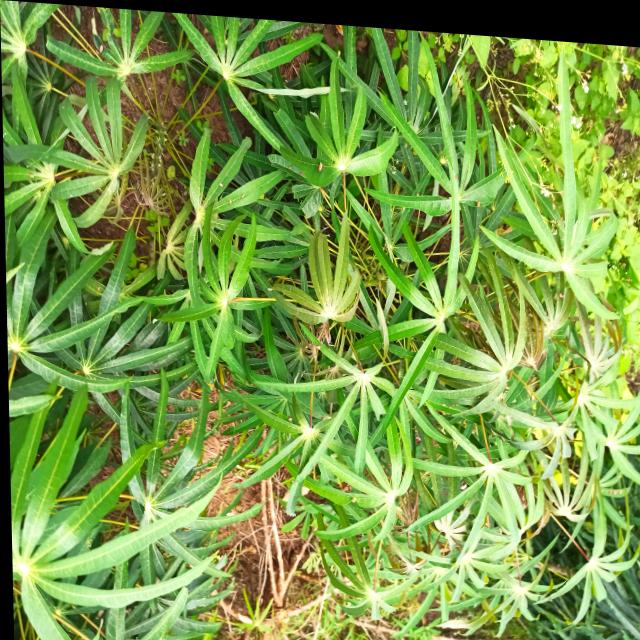Mosca: (315, 154, 334, 177), (470, 194, 484, 212), (347, 490, 365, 504), (213, 178, 227, 194)
